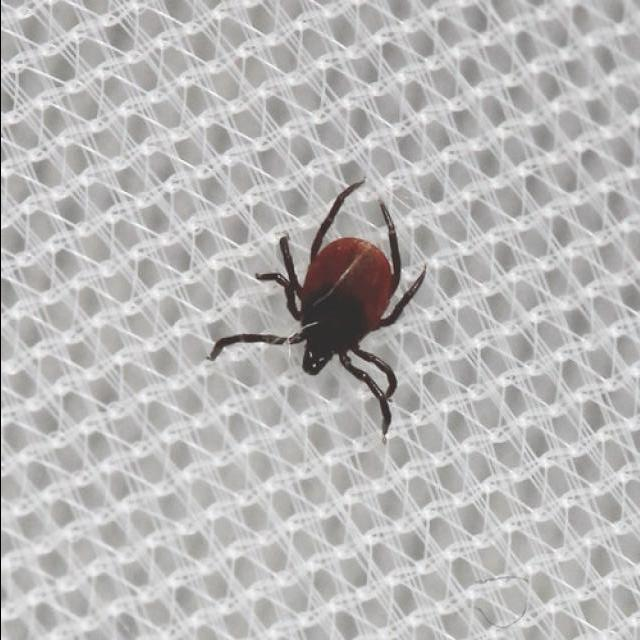Ixodes Ricinus-F: (209, 180, 422, 436)
